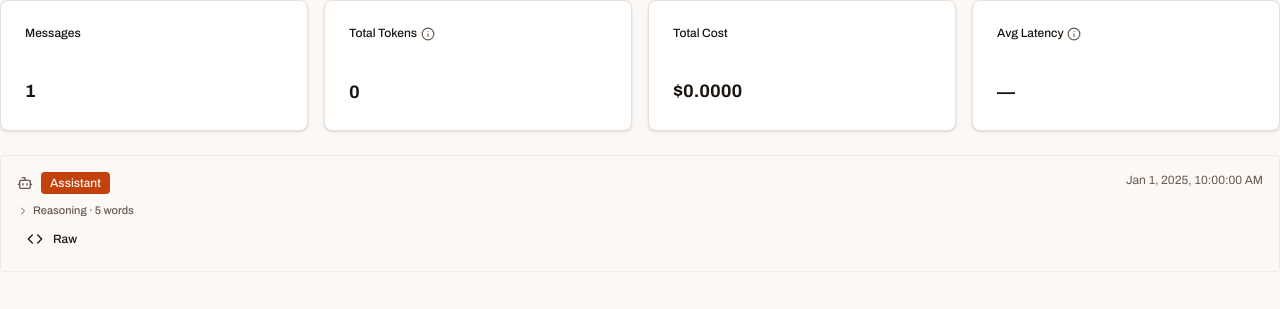
ConversationTraceViewer › Reasoning summary (t-953) › shows the persisted reasoning collapsed on an assistant message, expanding on click
The width and height of the screenshot is (1280, 309).
Click the button "Reasoning · 5 words": (75, 211) [17, 202, 134, 219]
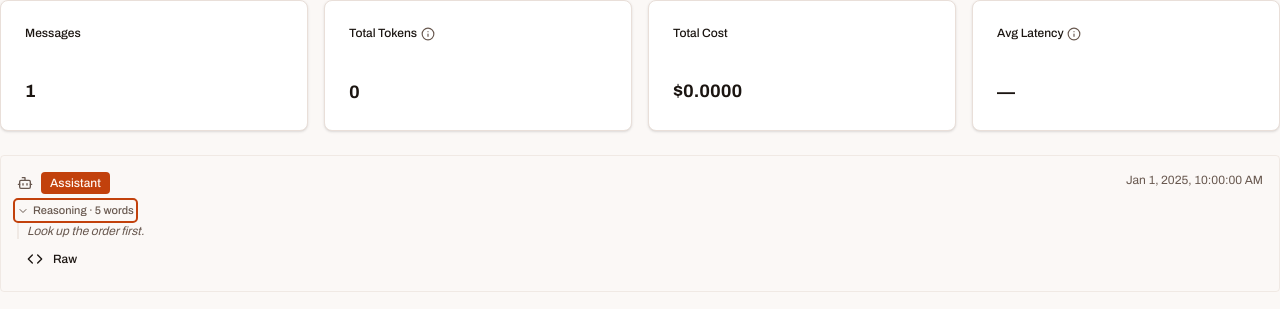
Expected: the text with test id "reasoning-panel-text" reads "Look up the order first.", [27, 224, 144, 238]
